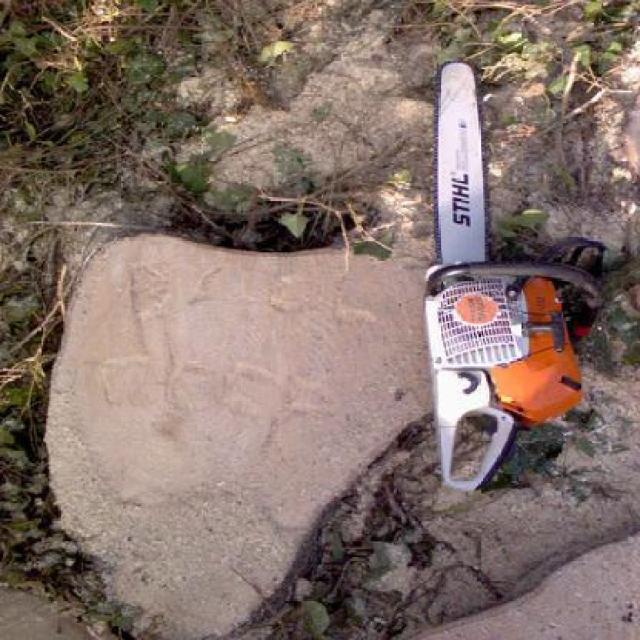Chainsaw: (421, 56, 605, 490)
